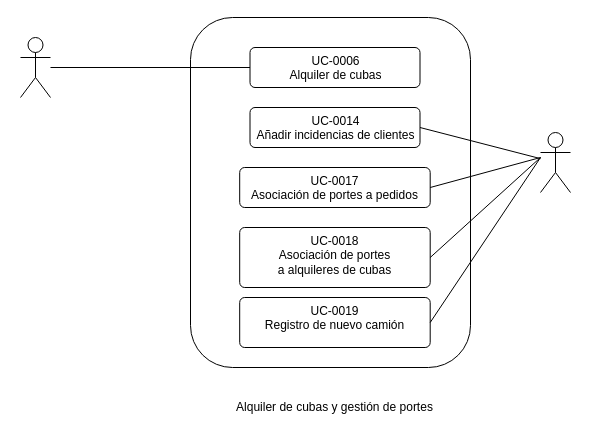
The diagram is 600 pixels wide and 435 high, and some of its shapes have lost their labels. Each missing label, with the centre of its shape:
"Cliente" goes at (x=35, y=67).
"Empleado" goes at (x=555, y=162).
